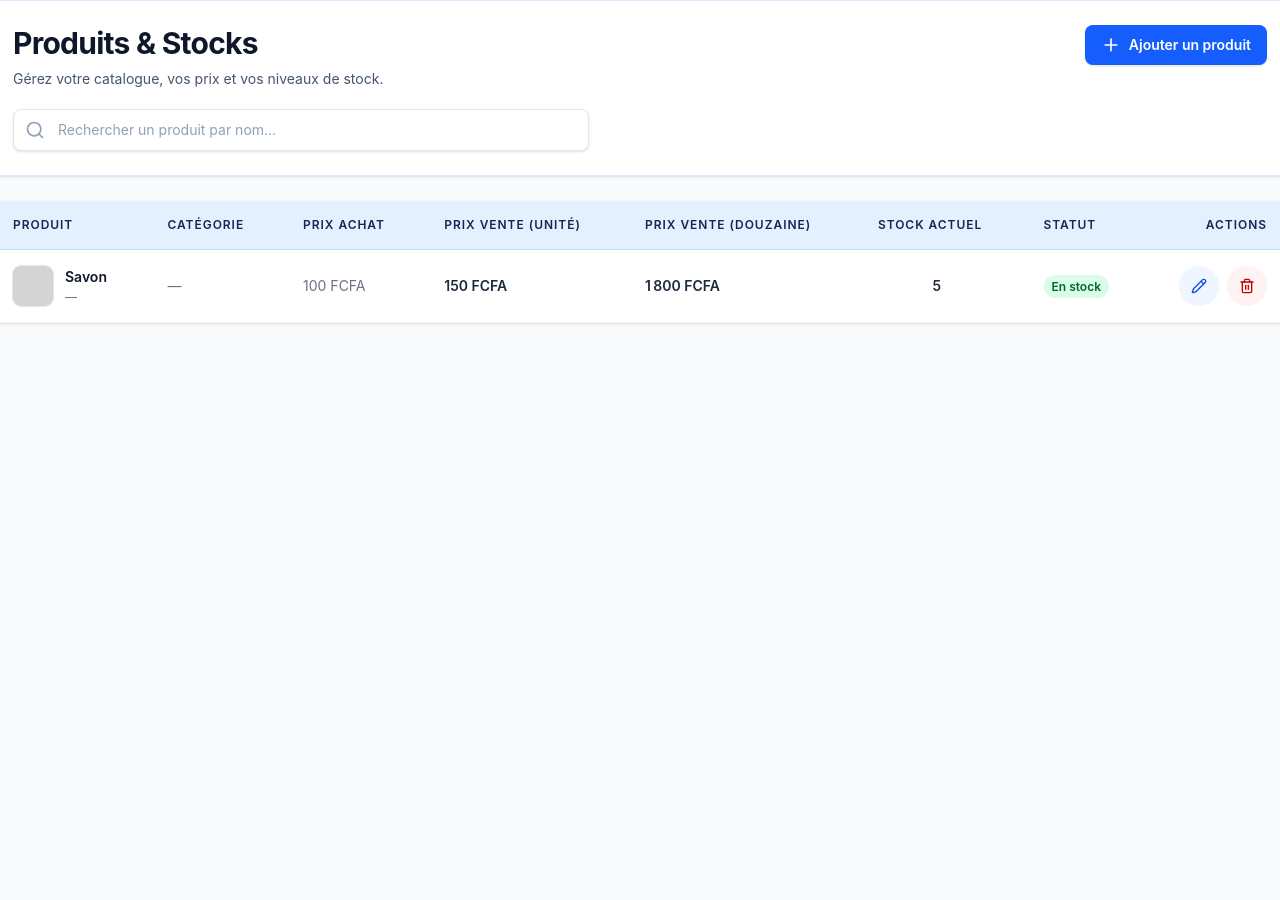
Fiche produit : photo › modification : retrait refusé, message dans la page « photo non retirée »
This screenshot has width=1280, height=900.
Click the button named "Modifier le produit Savon" at x=1199, y=286, box 1179,266 -> 1219,306
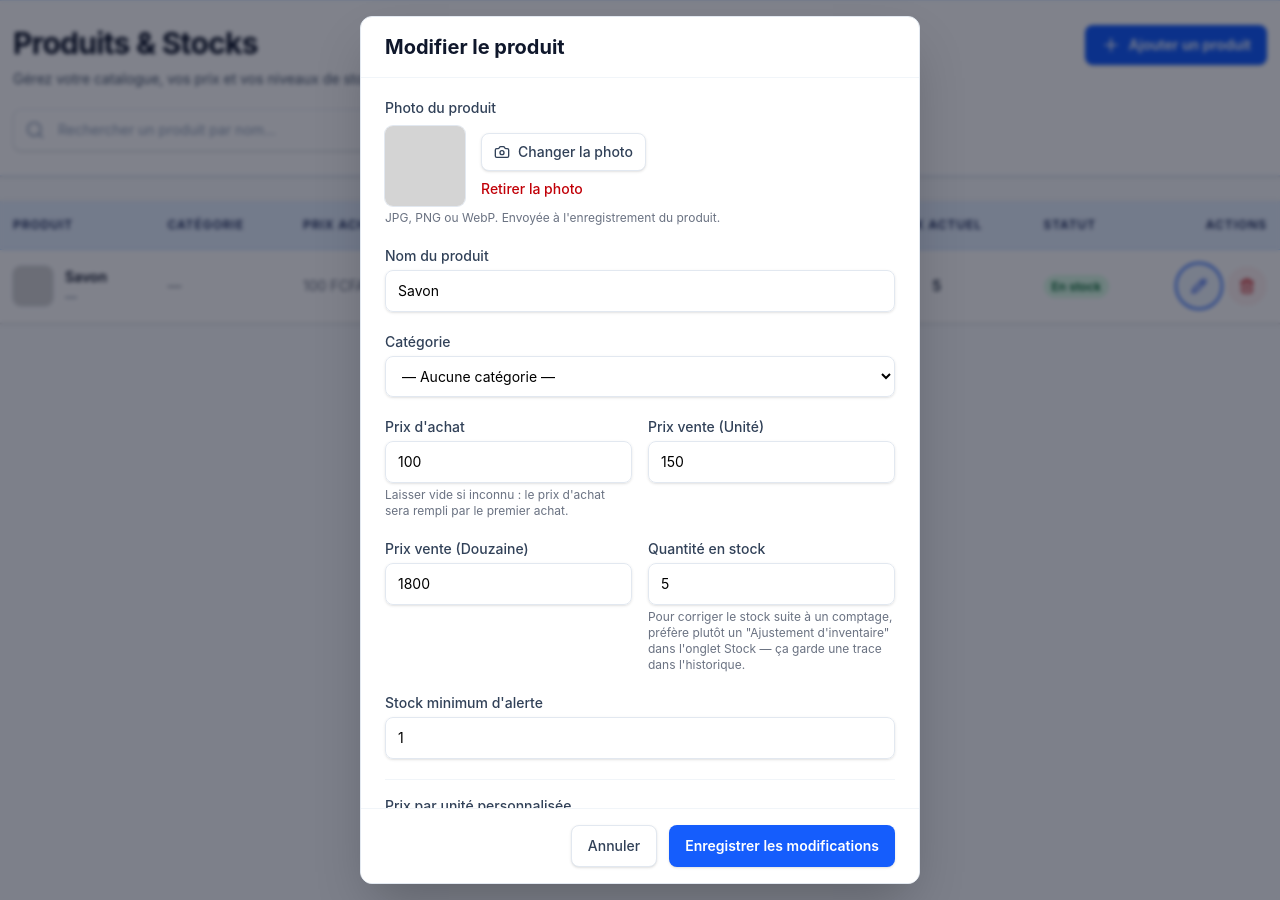
Click the button "Retirer la photo" at x=532, y=189, box 481,179 -> 583,199
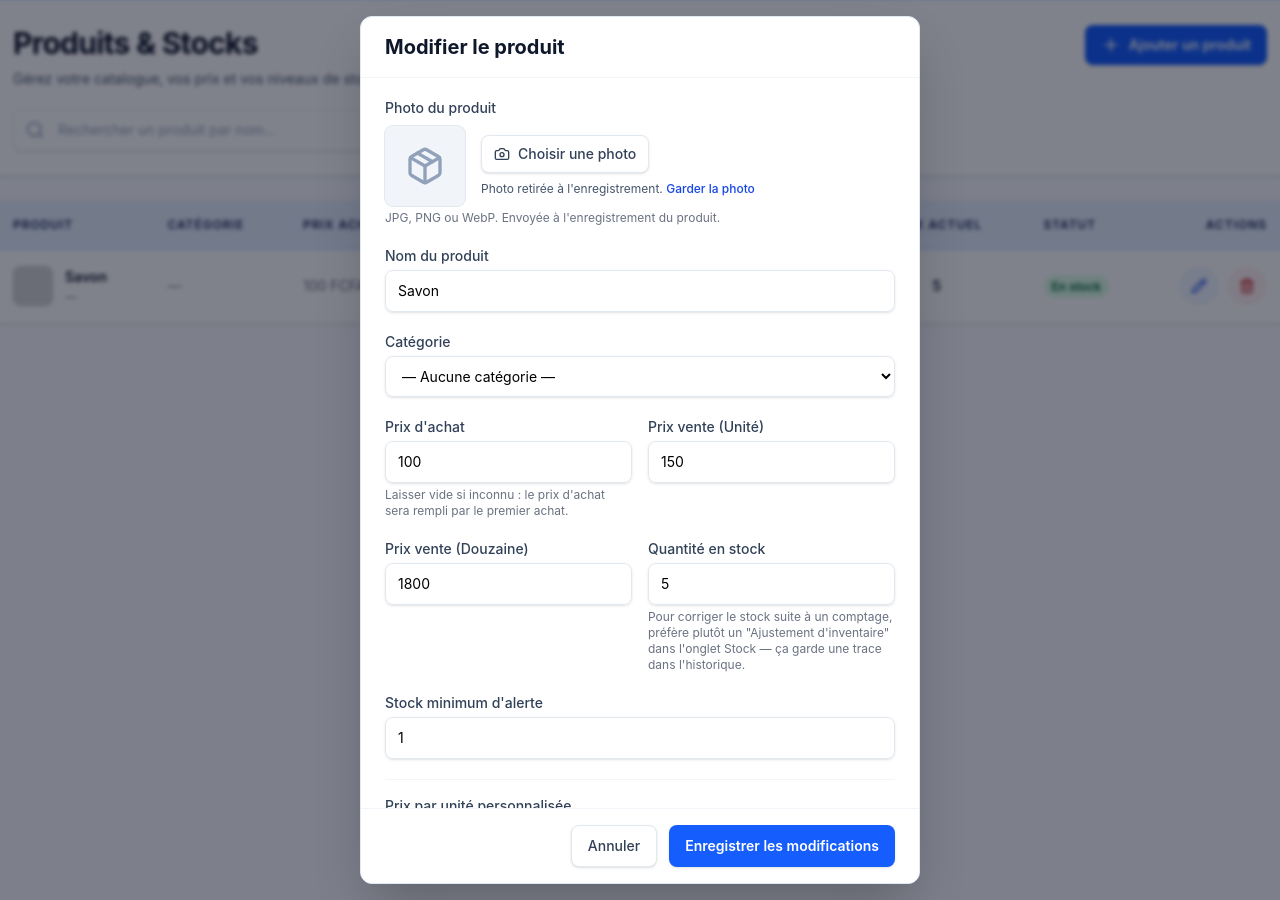
Click the button "Enregistrer les modifications" at x=782, y=846, box 669,825 -> 895,867
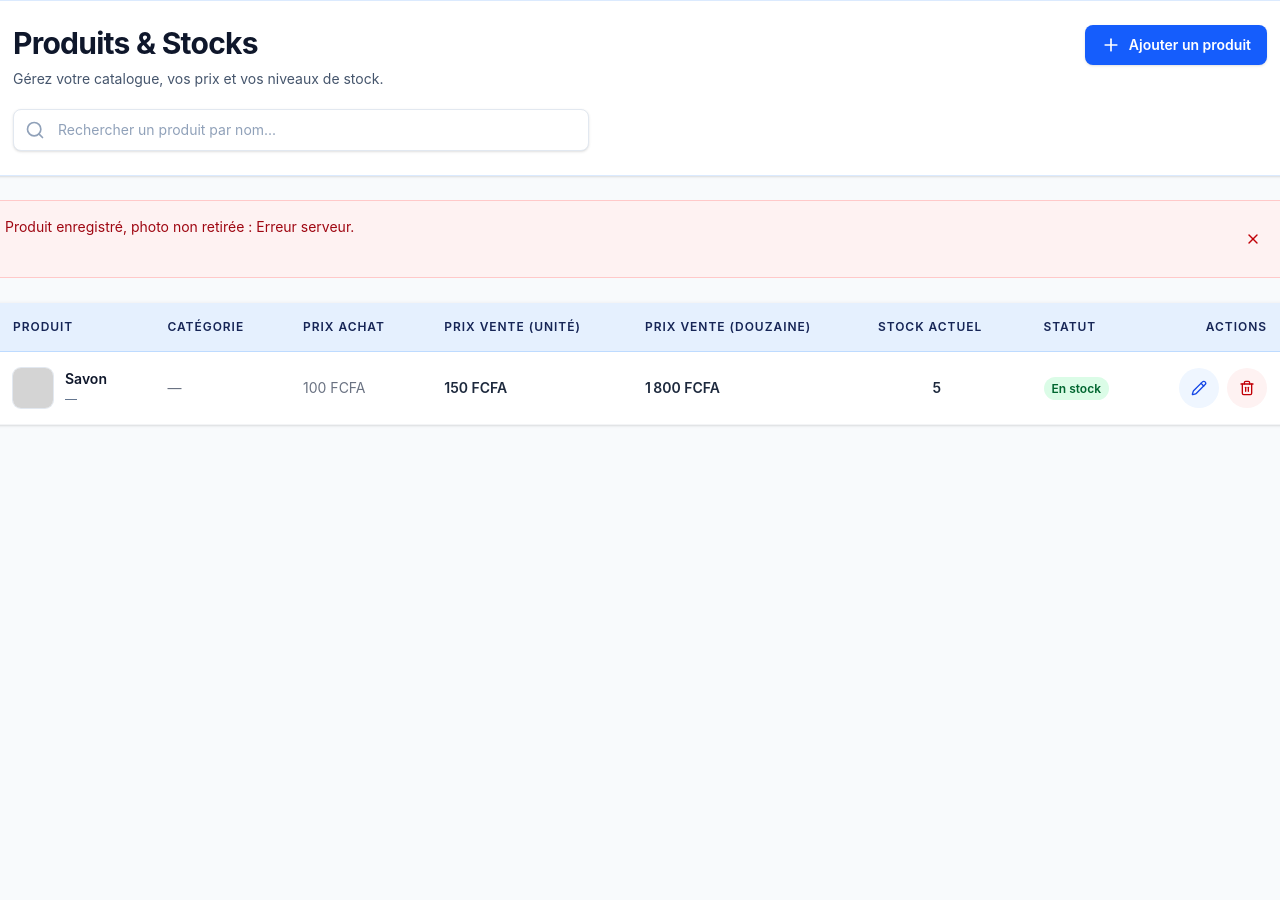
Check: the message reads "Produit enregistré, photo non retirée : Erreur serveur.", box 5,218 -> 354,235
